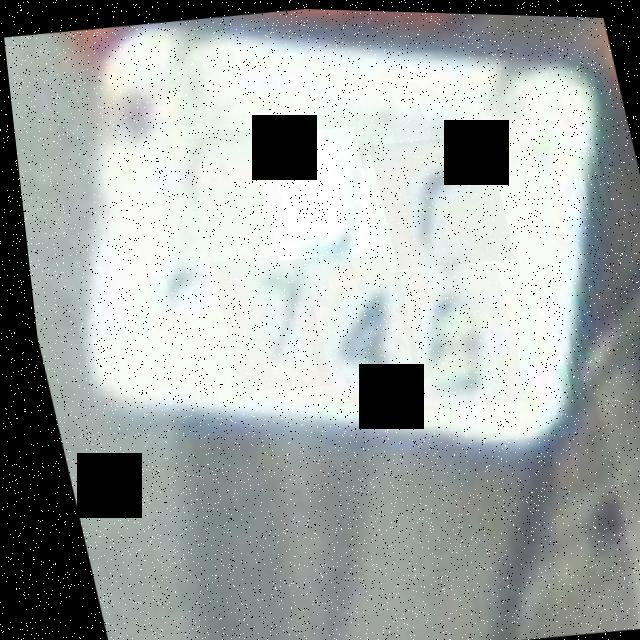4: (285, 248, 419, 406)
5: (384, 257, 521, 412)
7: (204, 249, 324, 394)
9: (116, 418, 312, 640)
B: (104, 376, 323, 640)
C: (364, 128, 511, 270)
O: (247, 122, 378, 261)
P: (142, 122, 287, 255)
